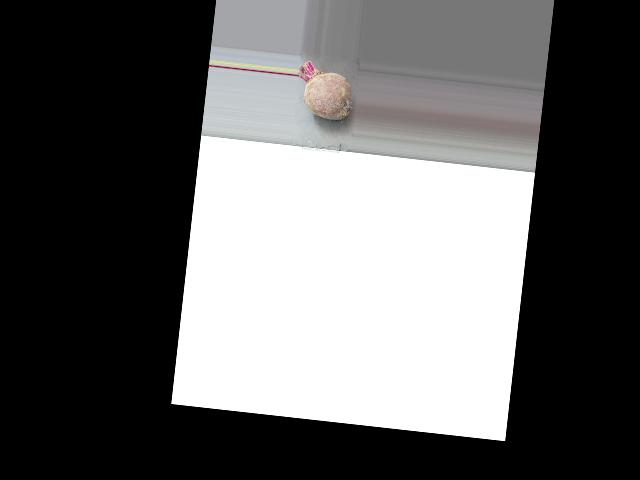beet: (293, 60, 355, 121)
